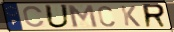C: (22, 5, 47, 29), (97, 5, 117, 28)
K: (119, 5, 142, 28)
M: (66, 4, 100, 29)
R: (142, 3, 169, 29)
U: (44, 4, 72, 30)
